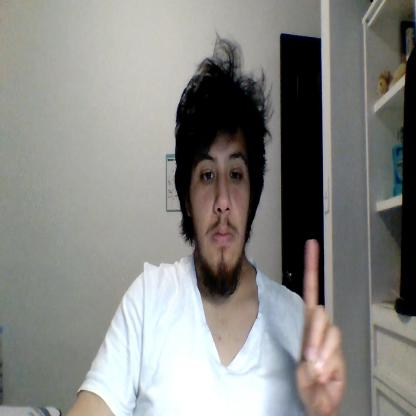D: (296, 240, 345, 416)
